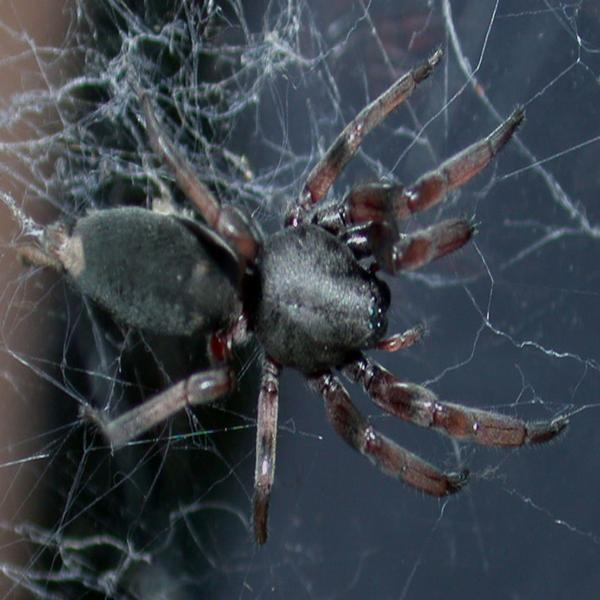White-Tailed Spider: (93, 57, 564, 527)
